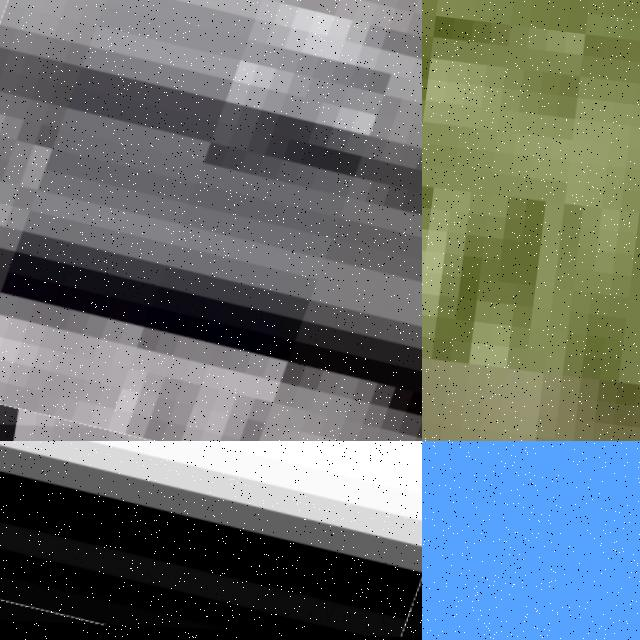0: (0, 0, 422, 441)
drone: (0, 441, 422, 640)
